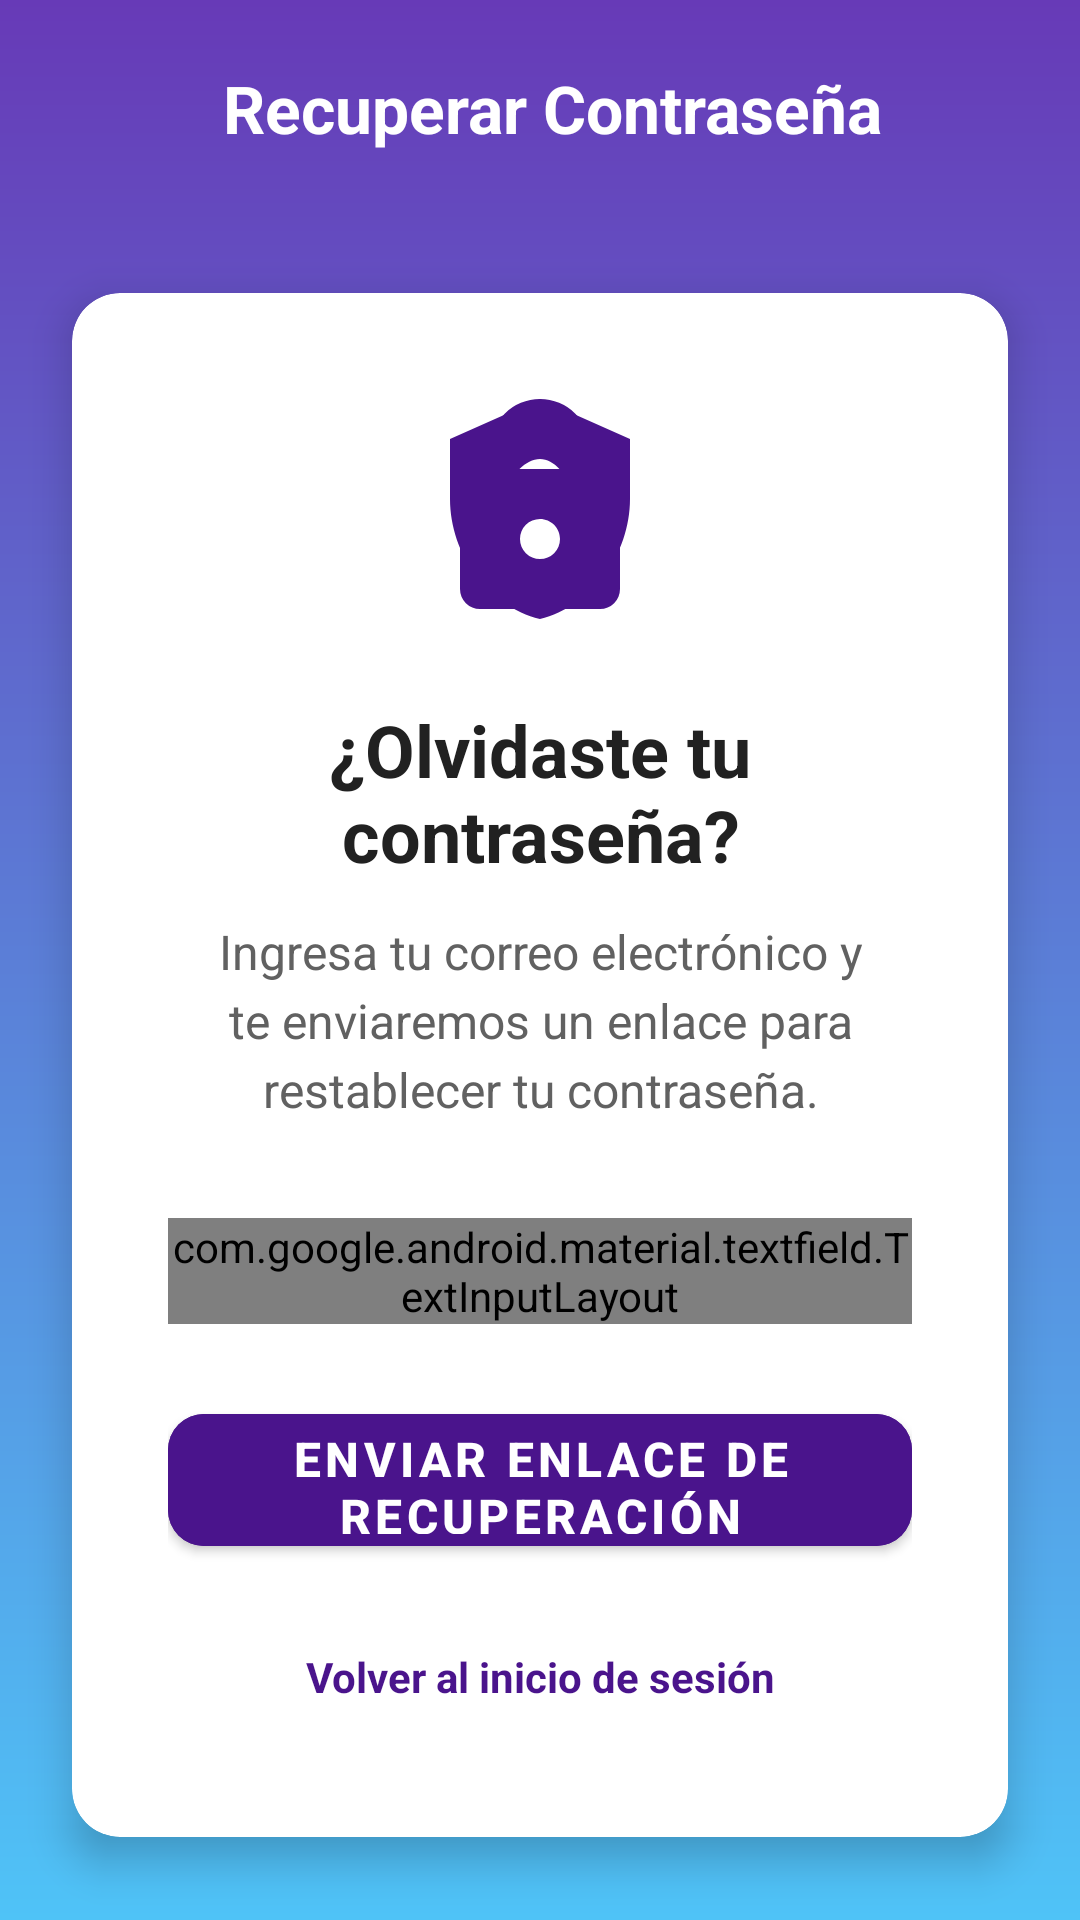

Point at icon controls on the screen. Image size 1080×1920, points as [x,y].
lock reset: [540,509]
